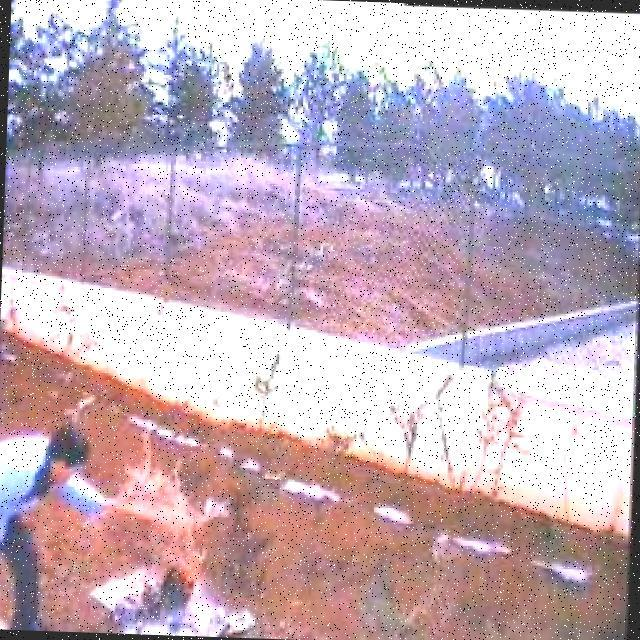Fire: (153, 548, 213, 611)
